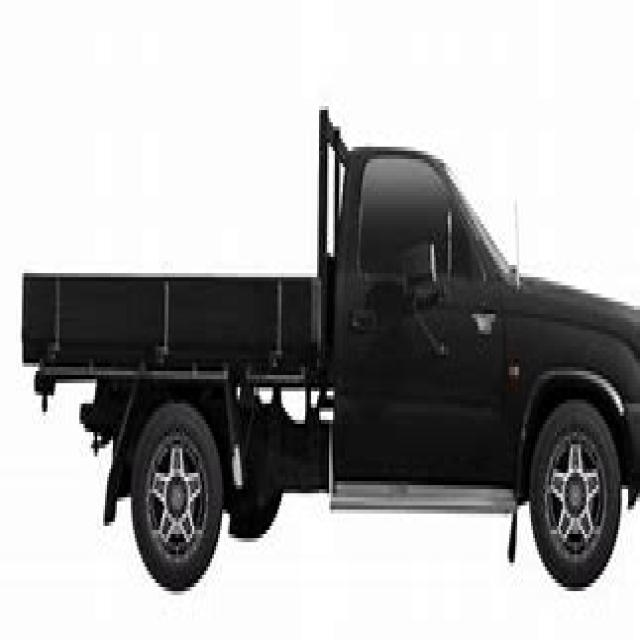light_vehicle: (16, 61, 638, 603)
